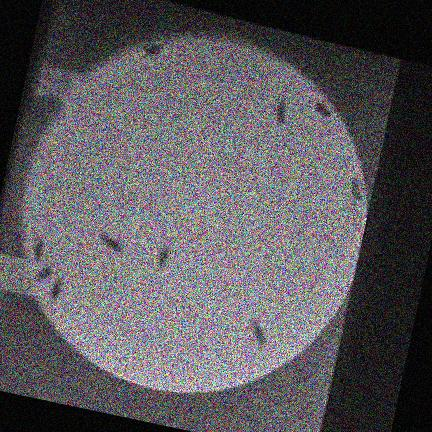fly: (100, 233, 124, 251), (253, 320, 266, 347), (351, 178, 363, 203), (157, 246, 170, 269), (51, 277, 63, 301), (142, 43, 162, 57), (275, 100, 286, 125), (36, 265, 52, 281), (317, 101, 332, 118), (34, 237, 44, 261)
